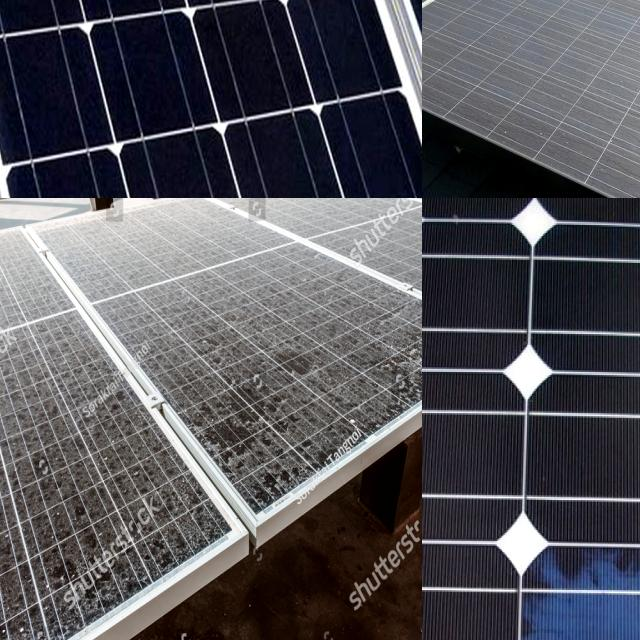crack: (0, 0, 422, 198), (273, 0, 422, 198)
dust: (492, 0, 640, 141), (25, 339, 90, 616), (0, 352, 43, 640), (260, 253, 347, 382), (231, 384, 340, 472), (156, 284, 242, 390), (100, 427, 158, 580), (110, 200, 206, 284), (359, 306, 422, 406), (269, 198, 369, 250), (0, 241, 37, 351), (370, 214, 422, 280), (447, 0, 560, 27), (422, 0, 484, 47), (565, 0, 640, 15), (618, 0, 640, 30)
shadow: (513, 538, 640, 640)
